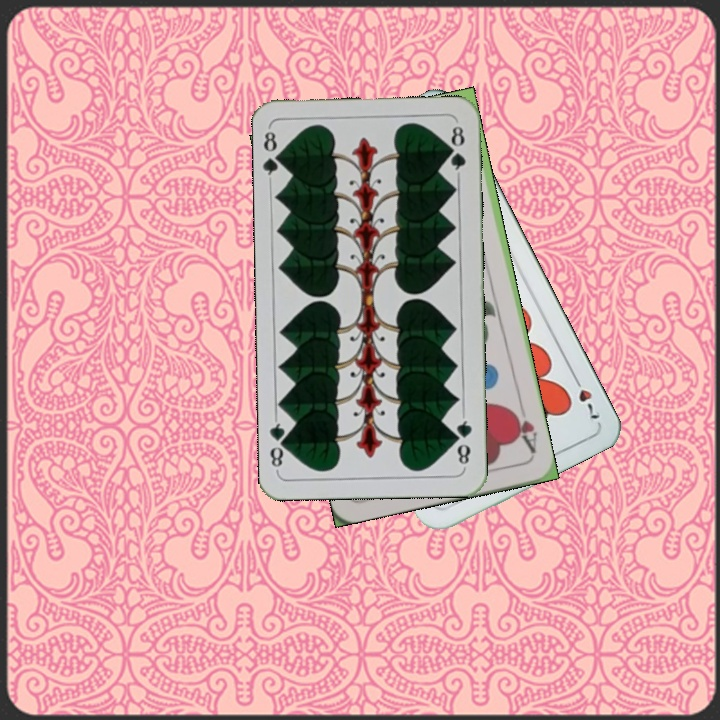G8: (259, 125, 287, 184), (451, 411, 475, 470)
H7: (568, 369, 603, 422)
HA: (508, 406, 540, 456)
